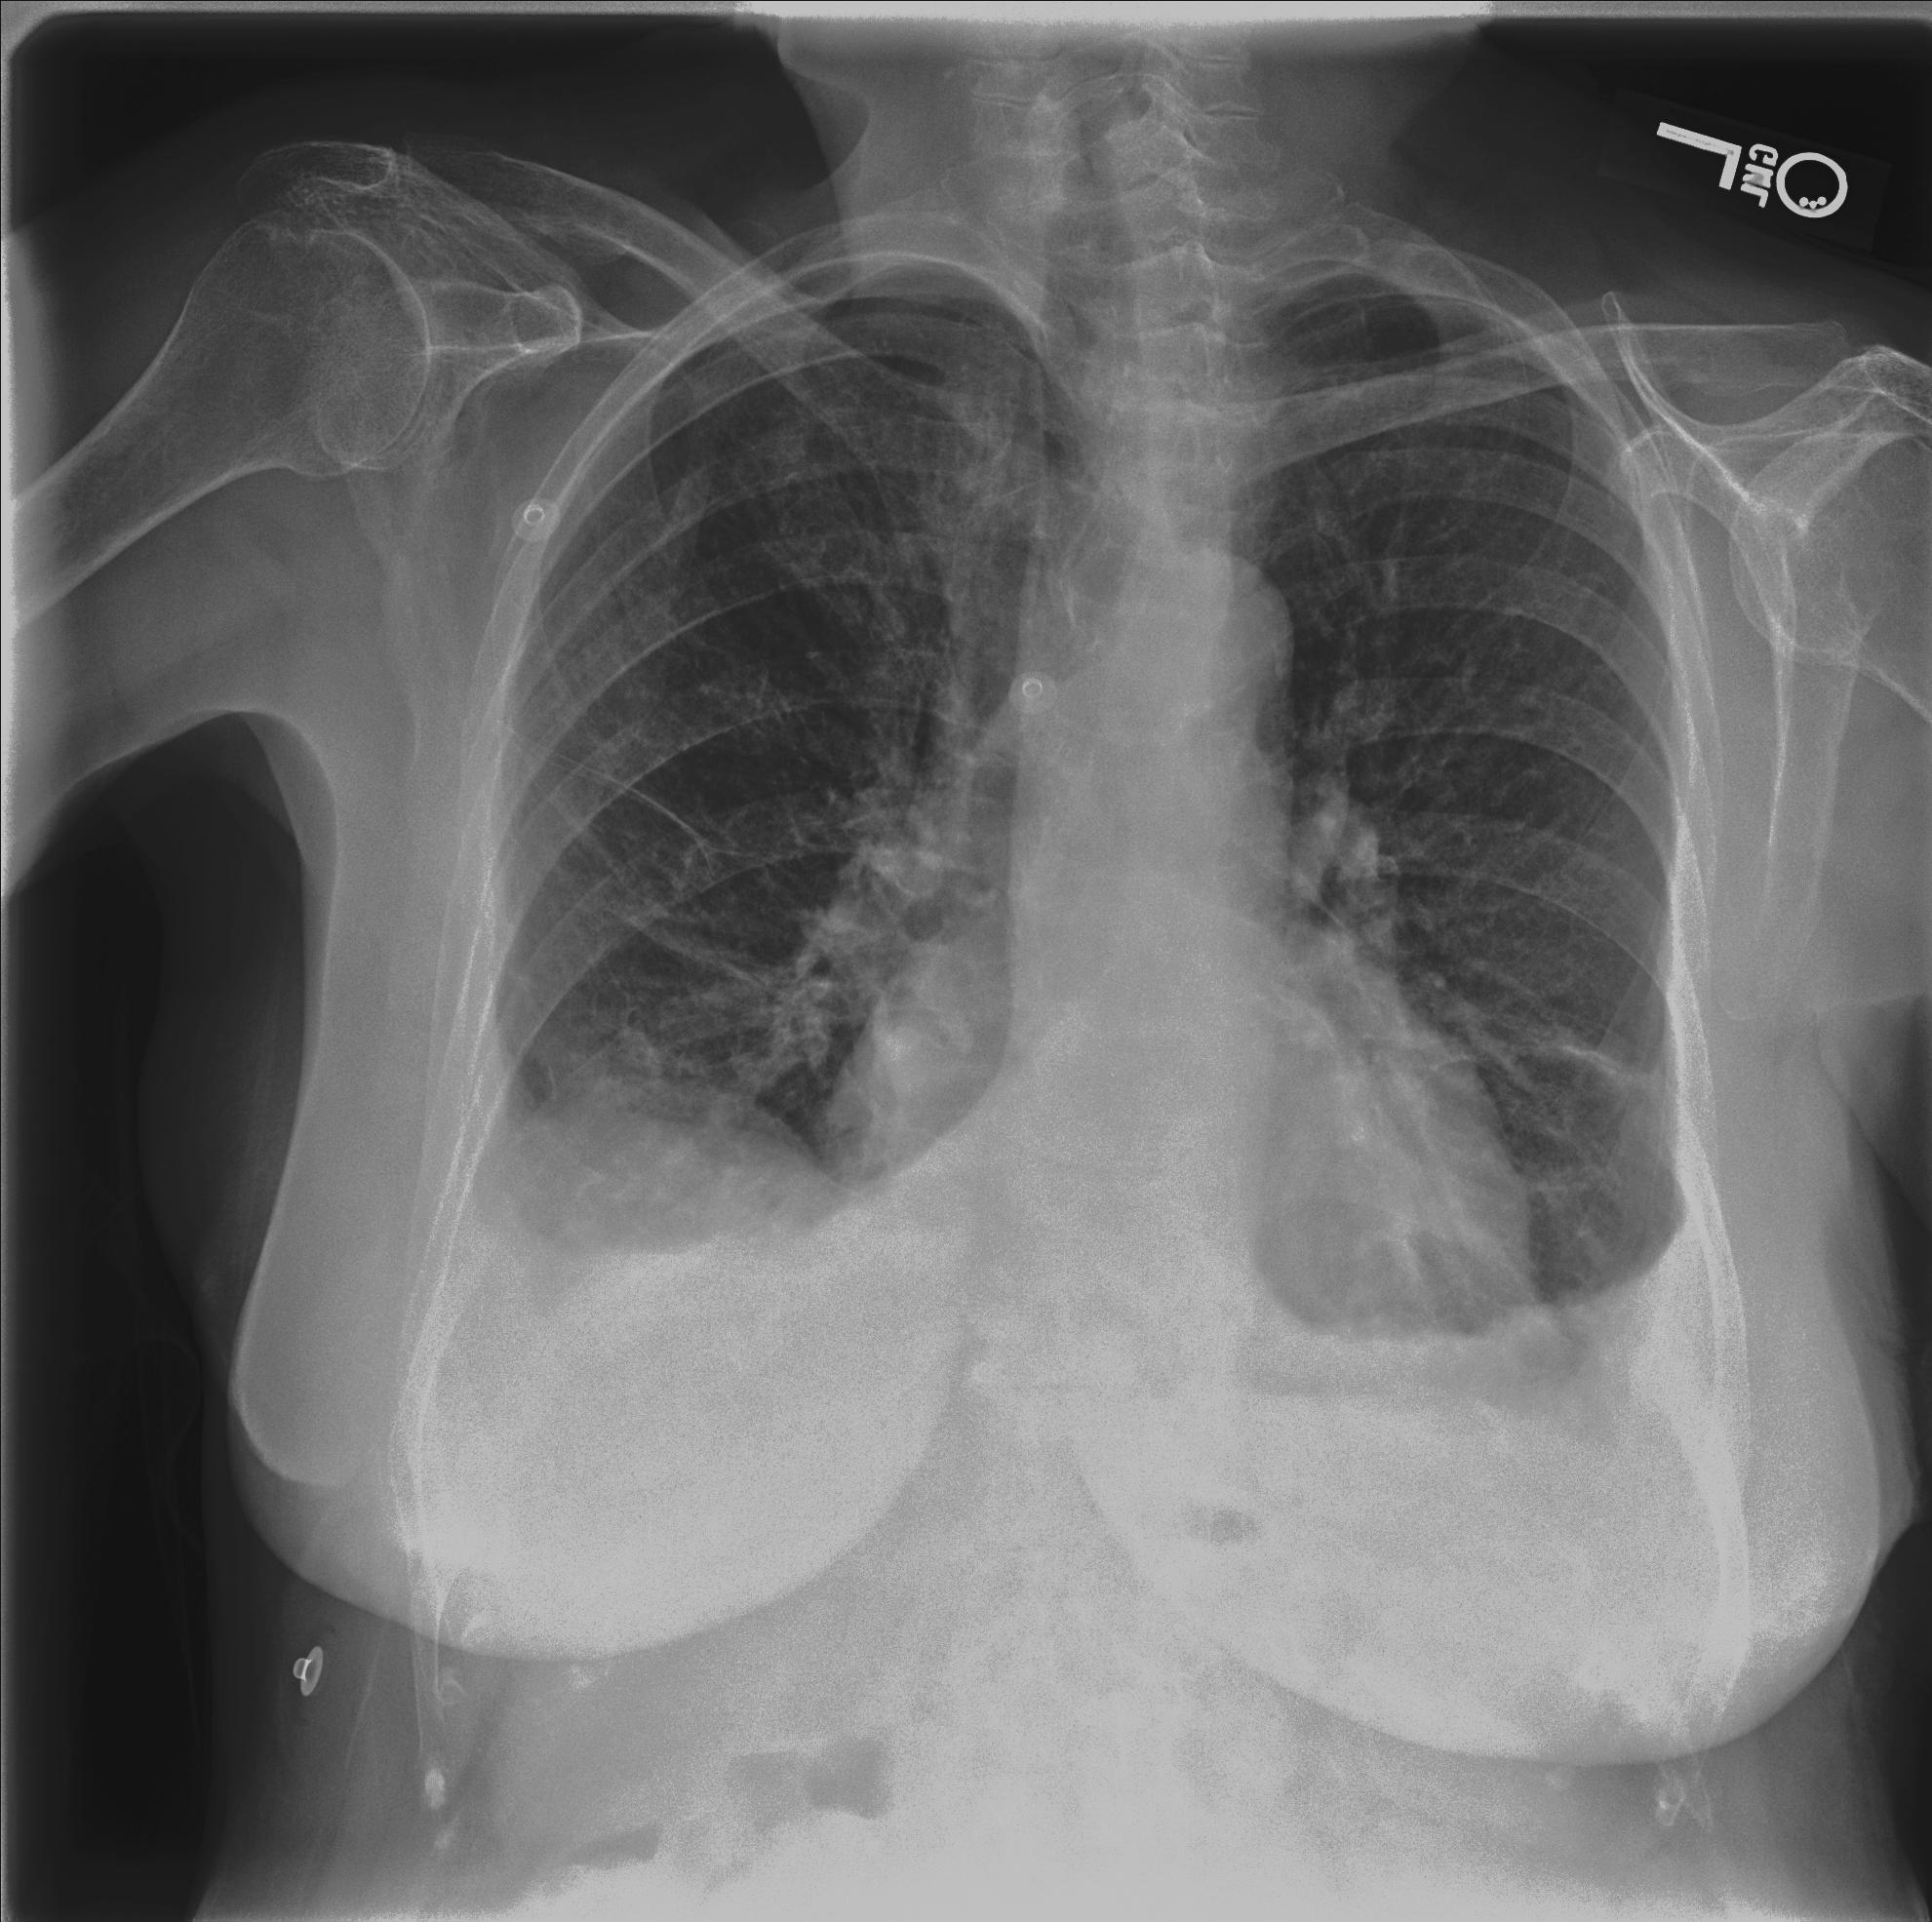Pleural Effusion: (1402, 1258, 1765, 1574), (399, 1153, 744, 1408)
